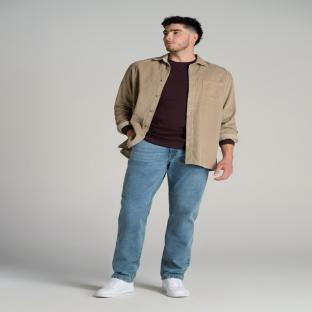Human: (95, 16, 237, 297)
